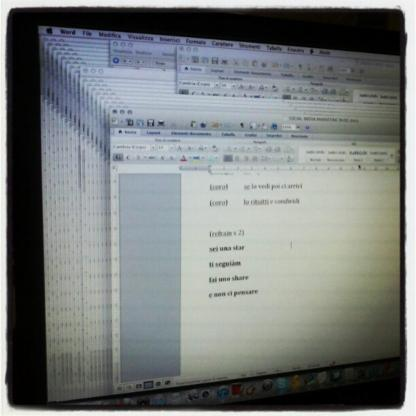board: (6, 7, 408, 411)
